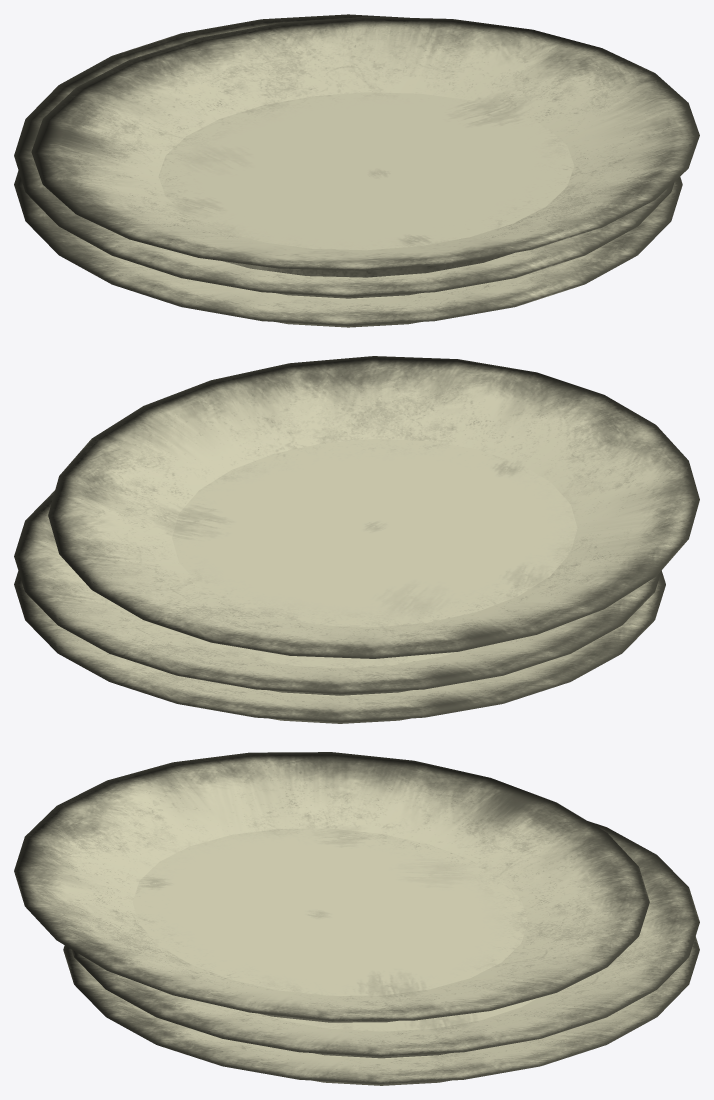
3 views of the same model, one above another, from view 1: azimuth 30°, elevation 25°; view 2: azimuth 150°, elevation 25°; view 3: azimuth 270°, elevation 25° (orthographic). The views are drawn at different scales.
Parts seen in each view (by area): view 1: plate; view 2: plate; view 3: plate.
Part boxes in pixels (x1,y1,x2,y2): plate: (14,14,699,327); plate: (14,356,699,723); plate: (14,752,699,1085).
Bounding box in the file's own units: 0.9919 × 0.1981 × 1.05.
Materials: 1 (1 with a texture image).
